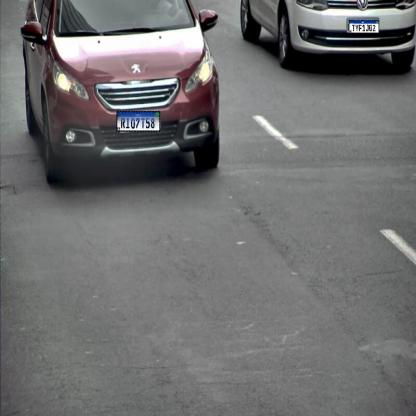PlacaM: (117, 111, 160, 132), (349, 20, 379, 33)
